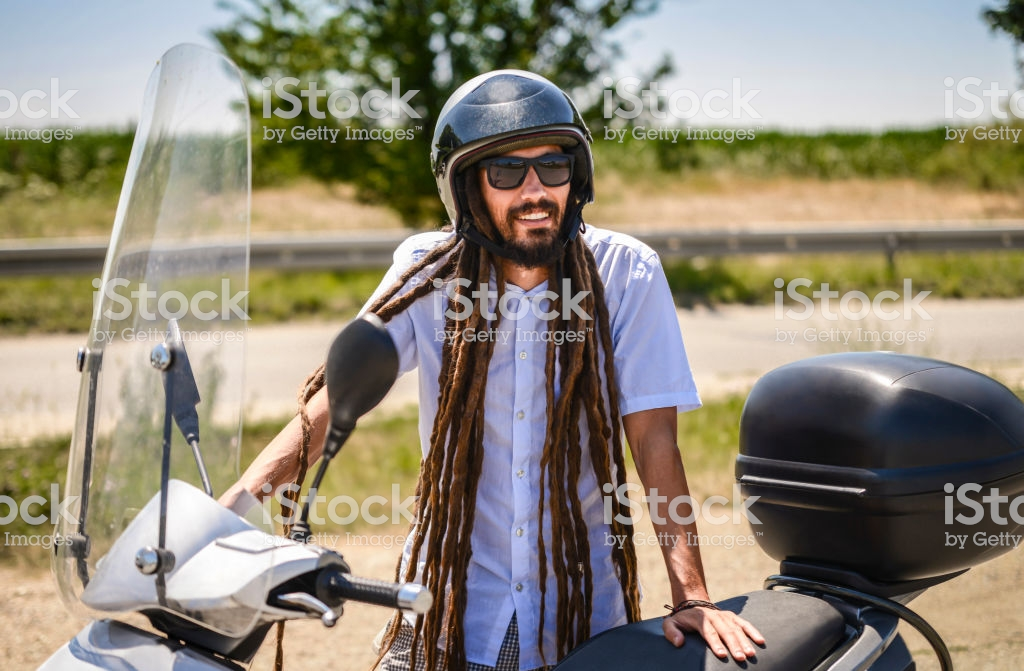helmet: (426, 73, 601, 183)
